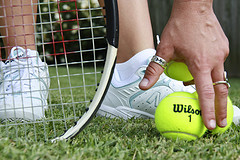tennis ball: (153, 90, 207, 142), (163, 59, 195, 82)
